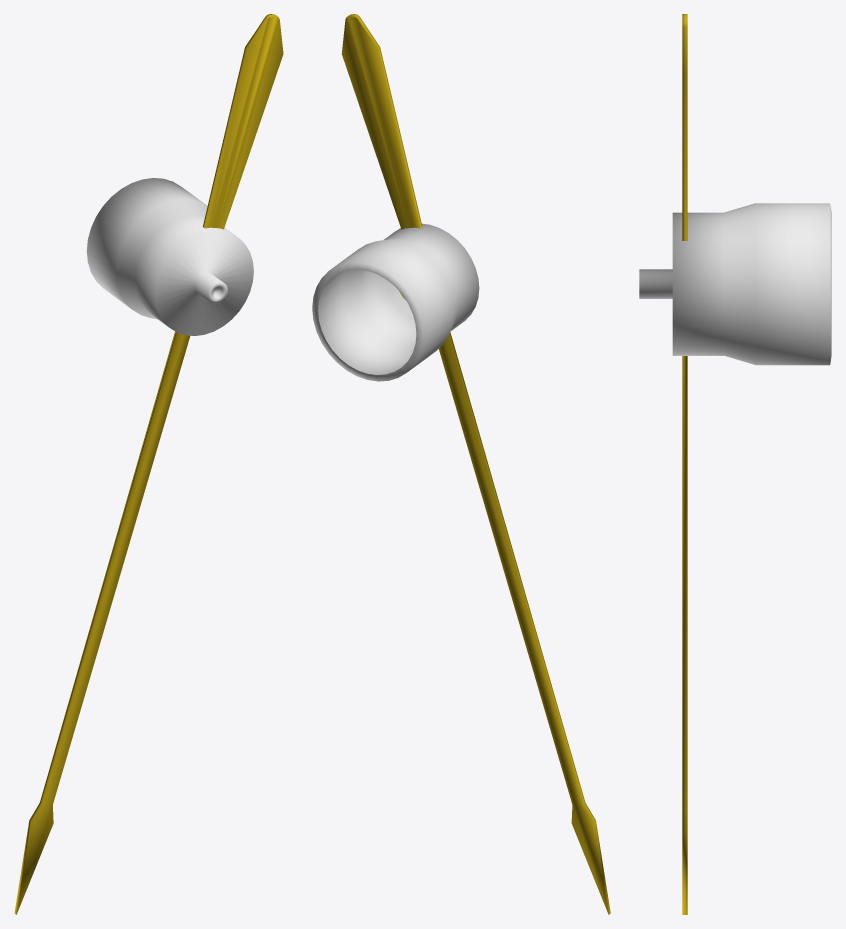
Rendered from secondhand.glb.
The picture shows the model from 3 angles, left to right: view 1: azimuth 30°, elevation 25°; view 2: azimuth 150°, elevation 25°; view 3: azimuth 270°, elevation 25°; orthographic projection. The views are drawn at different scales.
Parts seen in each view (by area): view 1: Circle.006, Plane.005; view 2: Circle.006, Plane.005; view 3: Circle.006, Plane.005.
Part boxes in pixels (box(x1,y1,x2,y2)): Circle.006: box(86, 178, 253, 335); Plane.005: box(14, 14, 283, 914); Circle.006: box(312, 223, 479, 381); Plane.005: box(341, 14, 610, 914); Circle.006: box(639, 203, 831, 365); Plane.005: box(682, 14, 687, 914).
Bounding box in the file's own units: 1.07 × 3.19 × 0.5262.
